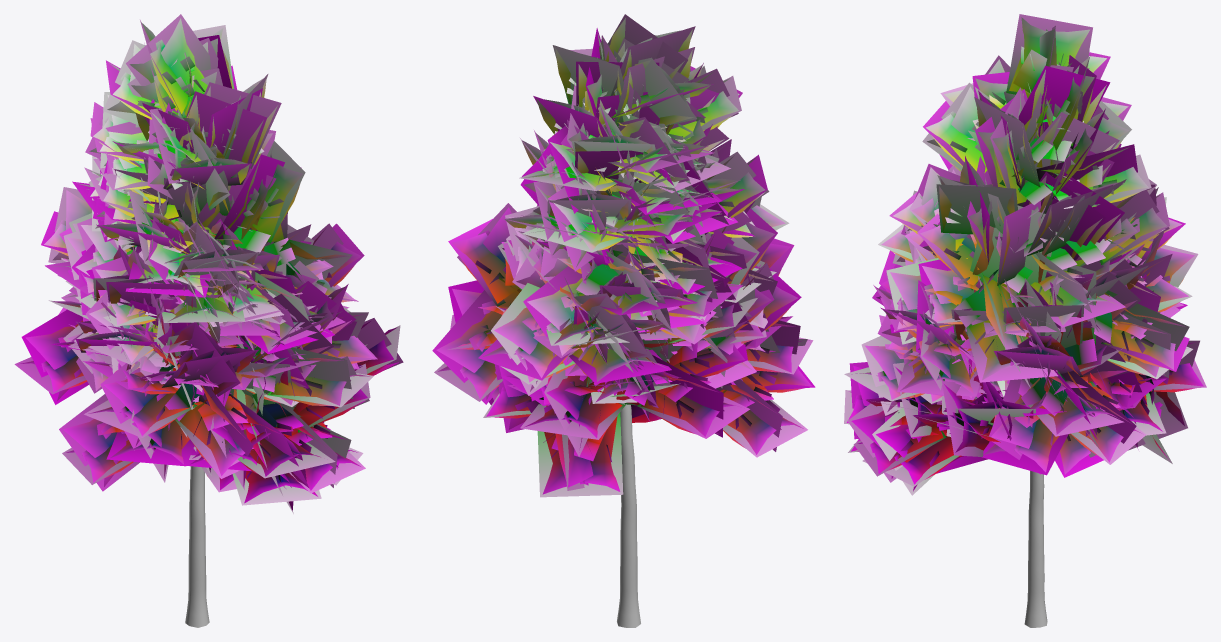
File: pine_02_3.FBX
The picture shows the model from 3 angles, left to right: view 1: azimuth 30°, elevation 25°; view 2: azimuth 150°, elevation 25°; view 3: azimuth 270°, elevation 25°; orthographic projection. The views are drawn at different scales.
Visible parts, largest first — view 1: pine_leaves_02_3_shadow, pine_leaves_02_3_lod_0, pine_tree_02_3_lod_0; view 2: pine_leaves_02_3_shadow, pine_leaves_02_3_lod_0, pine_tree_02_3_lod_0; view 3: pine_leaves_02_3_shadow, pine_leaves_02_3_lod_0, pine_tree_02_3_lod_0.
Boxes of the visible parts, x1,y1,x2,y2 form: pine_leaves_02_3_shadow: (14,14,403,513); pine_leaves_02_3_lod_0: (18,18,398,510); pine_tree_02_3_lod_0: (185,466,209,627); pine_leaves_02_3_shadow: (432,14,815,497); pine_leaves_02_3_lod_0: (436,18,811,494); pine_tree_02_3_lod_0: (617,403,640,627); pine_leaves_02_3_shadow: (844,14,1206,495); pine_leaves_02_3_lod_0: (847,17,1203,491); pine_tree_02_3_lod_0: (1024,471,1047,627).
Size of what is drawn, in the model's own units: 7.81 by 14.15 by 7.82.
